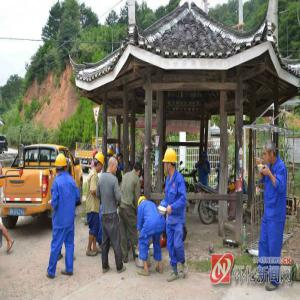blue: (202, 151, 208, 162)
none: (263, 140, 277, 167), (108, 158, 119, 177), (133, 160, 143, 178), (118, 153, 124, 164)
red: (93, 150, 99, 160)
yellow: (163, 148, 179, 175), (56, 155, 69, 177), (95, 155, 105, 174), (138, 195, 148, 208), (108, 149, 115, 161)
